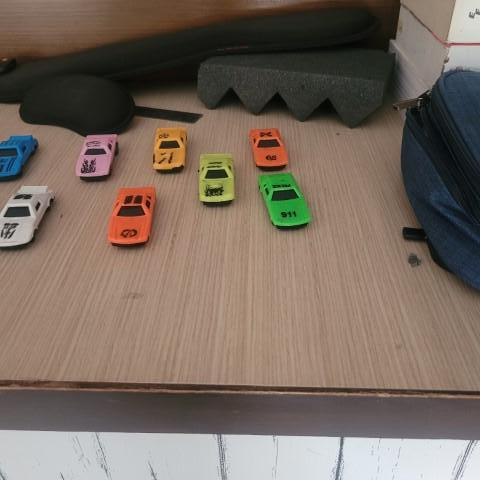car: (256, 168, 317, 230), (1, 182, 56, 249), (106, 185, 159, 245), (70, 128, 120, 180), (195, 149, 238, 205), (243, 123, 290, 171), (148, 120, 188, 175)
